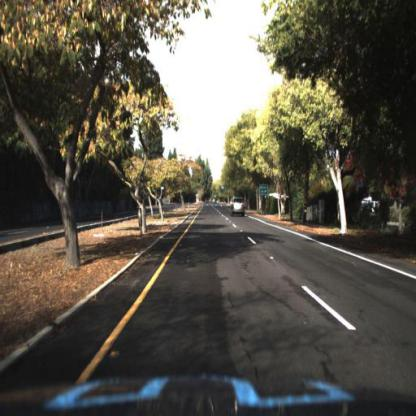car: (231, 196, 248, 220)
